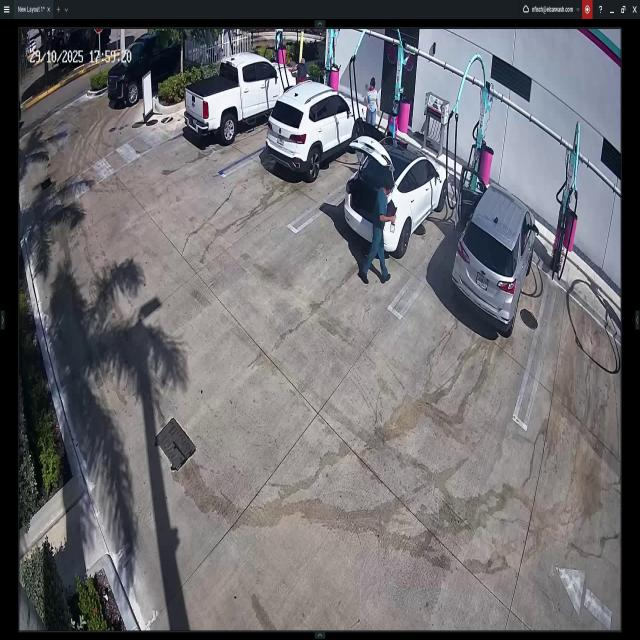Car: (458, 166, 538, 333), (348, 136, 448, 253), (186, 55, 311, 141), (266, 81, 366, 178), (109, 32, 188, 104)
